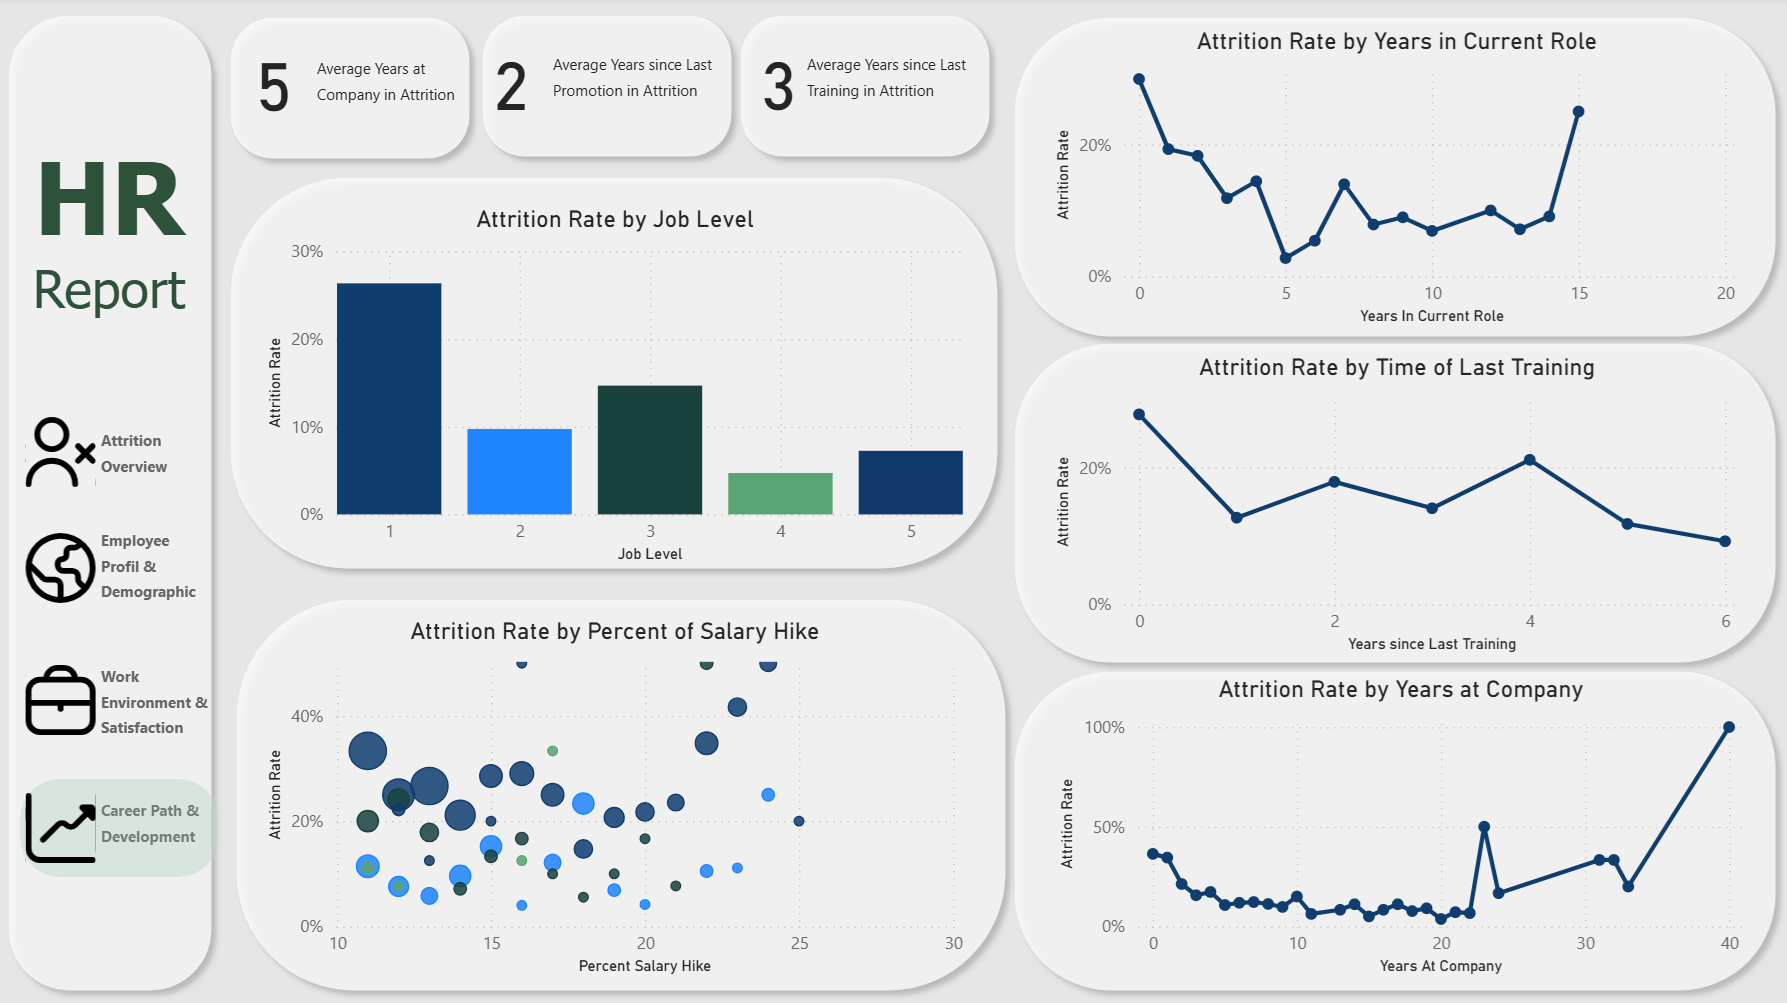

Layout of this report page (visuals, bound fields, positions):
{"tool":"powerbi","page":{"name":"Carrer Path & Development","canvas":[1280,720],"ordinal":4},"visuals":[{"type":"group","id":"g1","title":"Group 1","box":[0,5.7,162.9,714.3],"z":0},{"type":"shape","box":[0,5.7,162.9,714.3],"z":0,"group":"g1"},{"type":"shape","box":[158.6,7.1,188.6,118.6],"z":1000},{"type":"card","fields":{"Values":["WA_Fn-UseC_-HR-Employee-Attrition.Average Years in Company of Attrition"]},"box":[162.9,28.6,70,62.9],"z":2000},{"type":"textbox","box":[70,302.8,80,47.1],"z":2000,"group":"g1"},{"type":"actionButton","box":[17.1,291.4,141.4,70],"z":2250,"group":"g1"},{"type":"shape","box":[338.6,5.7,195.7,118.6],"z":3000},{"type":"textbox","box":[70,374.3,80,84.3],"z":3000,"group":"g1"},{"type":"actionButton","box":[17.1,374.3,141.4,70],"z":3500,"group":"g1"},{"type":"card","fields":{"Values":["WA_Fn-UseC_-HR-Employee-Attrition.Average Years Since Last Promotion of Attrition"]},"box":[342.9,28.6,50,61.4],"z":4000},{"type":"shape","box":[522.9,5.7,195.7,118.6],"z":5000},{"type":"textbox","box":[70,471.4,92.9,67.1],"z":5000,"group":"g1"},{"type":"actionButton","box":[17.1,468.6,141.4,70],"z":5500,"group":"g1"},{"type":"textbox","box":[70,567.1,88.6,55.7],"z":5875,"group":"g1"},{"type":"card","fields":{"Values":["WA_Fn-UseC_-HR-Employee-Attrition.Average Years Since Last Training Attire"]},"box":[534.3,28.6,50,61.4],"z":6000},{"type":"actionButton","box":[17.1,560,141.4,70],"z":6250,"group":"g1"},{"type":"shape","box":[718.6,474.3,561.4,245.7],"z":7000},{"type":"lineChart","title":"Attrition Rate by Years at Company","fields":{"Category":["WA_Fn-UseC_-HR-Employee-Attrition.Years At Company"],"Y":["WA_Fn-UseC_-HR-Employee-Attrition.Attrition Rate"]},"box":[754.3,485.7,498.6,218.6],"z":8000},{"type":"shape","box":[718.6,7.1,561.4,245.7],"z":9000},{"type":"lineChart","title":"Attrition Rate by Years in Current Role","fields":{"Category":["WA_Fn-UseC_-HR-Employee-Attrition.Years In Current Role"],"Y":["WA_Fn-UseC_-HR-Employee-Attrition.Attrition Rate"]},"box":[751.4,22.9,498.6,217.1],"z":10000},{"type":"shape","box":[158.6,121.4,565.7,297.1],"z":11000},{"type":"columnChart","title":"Attrition Rate by Job Level","fields":{"Category":["WA_Fn-UseC_-HR-Employee-Attrition.Job Level"],"Y":["WA_Fn-UseC_-HR-Employee-Attrition.Attrition Rate"],"Series":["WA_Fn-UseC_-HR-Employee-Attrition.Job Level"]},"box":[188.6,150,507.1,260],"z":12000},{"type":"shape","box":[718.6,240,561.4,245.7],"z":13000},{"type":"lineChart","title":"Attrition Rate by Time of Last Training","fields":{"Category":["WA_Fn-UseC_-HR-Employee-Attrition.Training Times Last Year"],"Y":["WA_Fn-UseC_-HR-Employee-Attrition.Attrition Rate"]},"box":[751.4,255.7,498.6,218.6],"z":14000},{"type":"shape","box":[162.9,422.9,567.1,297.1],"z":15000},{"type":"scatterChart","title":"Attrition Rate by Percent of Salary Hike","fields":{"X":["WA_Fn-UseC_-HR-Employee-Attrition.Percent Salary Hike"],"Size":["WA_Fn-UseC_-HR-Employee-Attrition.Total Attrition"],"Y":["WA_Fn-UseC_-HR-Employee-Attrition.Attrition Rate"],"Series":["WA_Fn-UseC_-HR-Employee-Attrition.Job Level"]},"box":[188.6,444.3,507,260],"z":16000},{"type":"textbox","box":[224.3,37.1,121.4,52.9],"z":17000},{"type":"textbox","box":[392.9,34.3,130,64.3],"z":18000},{"type":"textbox","box":[574.3,34.3,130,65.7],"z":19000},{"type":"textbox","box":[17.1,94.3,127.1,151.4],"z":20000}]}

Visuals, with their boxes in screenshot pixels (x1, y1, x2, y2), scaled from the page's 1280x720 canvas onto the 1787x1003 screenshot:
"Group 1" group: pyautogui.locateOnScreen(0, 8, 227, 1002)
shape: pyautogui.locateOnScreen(0, 8, 227, 1002)
shape: pyautogui.locateOnScreen(221, 10, 485, 175)
card - WA_Fn-UseC_-HR-Employee-Attrition.Average Years in Company of Attrition: pyautogui.locateOnScreen(227, 40, 325, 127)
textbox: pyautogui.locateOnScreen(98, 422, 209, 487)
actionButton: pyautogui.locateOnScreen(24, 406, 221, 503)
shape: pyautogui.locateOnScreen(473, 8, 746, 173)
textbox: pyautogui.locateOnScreen(98, 521, 209, 639)
actionButton: pyautogui.locateOnScreen(24, 521, 221, 619)
card - WA_Fn-UseC_-HR-Employee-Attrition.Average Years Since Last Promotion of Attrition: pyautogui.locateOnScreen(479, 40, 549, 125)
shape: pyautogui.locateOnScreen(730, 8, 1003, 173)
textbox: pyautogui.locateOnScreen(98, 657, 227, 750)
actionButton: pyautogui.locateOnScreen(24, 653, 221, 750)
textbox: pyautogui.locateOnScreen(98, 790, 221, 868)
card - WA_Fn-UseC_-HR-Employee-Attrition.Average Years Since Last Training Attire: pyautogui.locateOnScreen(746, 40, 816, 125)
actionButton: pyautogui.locateOnScreen(24, 780, 221, 878)
shape: pyautogui.locateOnScreen(1003, 661, 1786, 1002)
"Attrition Rate by Years at Company" lineChart: pyautogui.locateOnScreen(1053, 677, 1749, 981)
shape: pyautogui.locateOnScreen(1003, 10, 1786, 352)
"Attrition Rate by Years in Current Role" lineChart: pyautogui.locateOnScreen(1049, 32, 1745, 334)
shape: pyautogui.locateOnScreen(221, 169, 1011, 583)
"Attrition Rate by Job Level" columnChart: pyautogui.locateOnScreen(263, 209, 971, 571)
shape: pyautogui.locateOnScreen(1003, 334, 1786, 677)
"Attrition Rate by Time of Last Training" lineChart: pyautogui.locateOnScreen(1049, 356, 1745, 661)
shape: pyautogui.locateOnScreen(227, 589, 1019, 1002)
"Attrition Rate by Percent of Salary Hike" scatterChart: pyautogui.locateOnScreen(263, 619, 971, 981)
textbox: pyautogui.locateOnScreen(313, 52, 483, 125)
textbox: pyautogui.locateOnScreen(549, 48, 730, 137)
textbox: pyautogui.locateOnScreen(802, 48, 983, 139)
textbox: pyautogui.locateOnScreen(24, 131, 201, 342)
